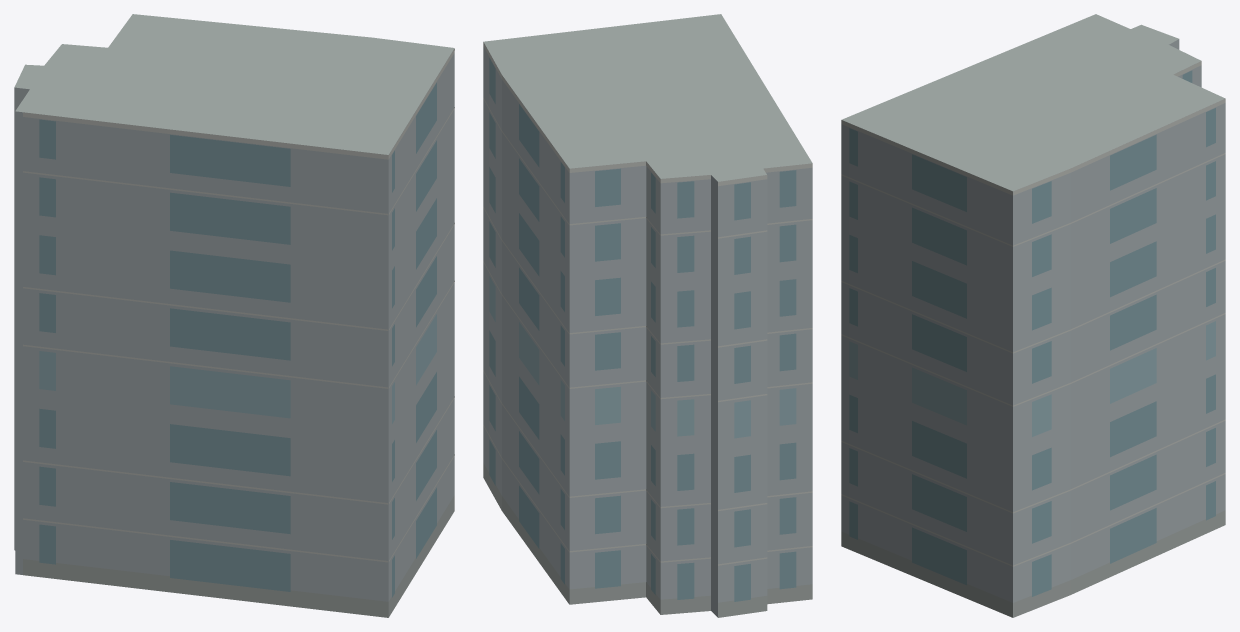
Rendered from survey-upis-32805048.glb.
3 renders of one model, left to right at view 1: azimuth 30°, elevation 25°; view 2: azimuth 150°, elevation 25°; view 3: azimuth 270°, elevation 25°, orthographic. The views are drawn at different scales.
Parts seen in each view (by area): view 1: survey-upis-32805048.tmp; view 2: survey-upis-32805048.tmp; view 3: survey-upis-32805048.tmp.
Part boxes in pixels (box(x1,y1,x2,y2)): survey-upis-32805048.tmp: box(14, 14, 454, 617); survey-upis-32805048.tmp: box(483, 14, 812, 617); survey-upis-32805048.tmp: box(841, 14, 1225, 617).
Bounding box in the file's own units: 21.66 × 24.26 × 19.82.
